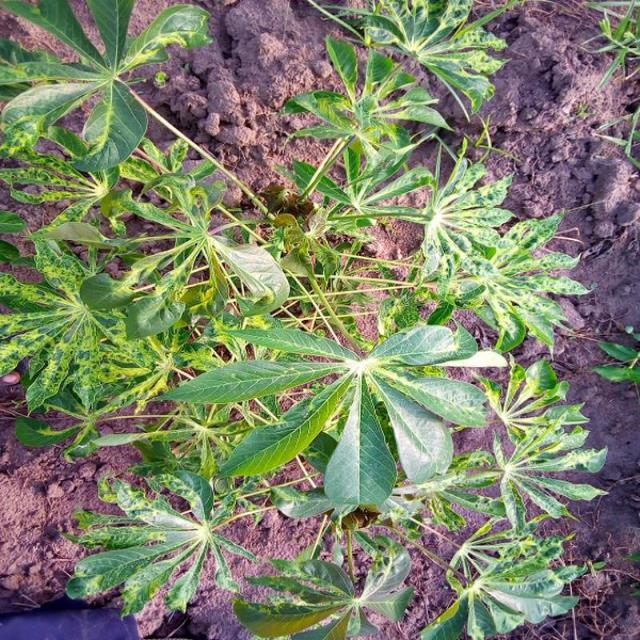cassava leaf: (2, 0, 611, 638), (161, 316, 506, 514), (322, 374, 397, 516)
